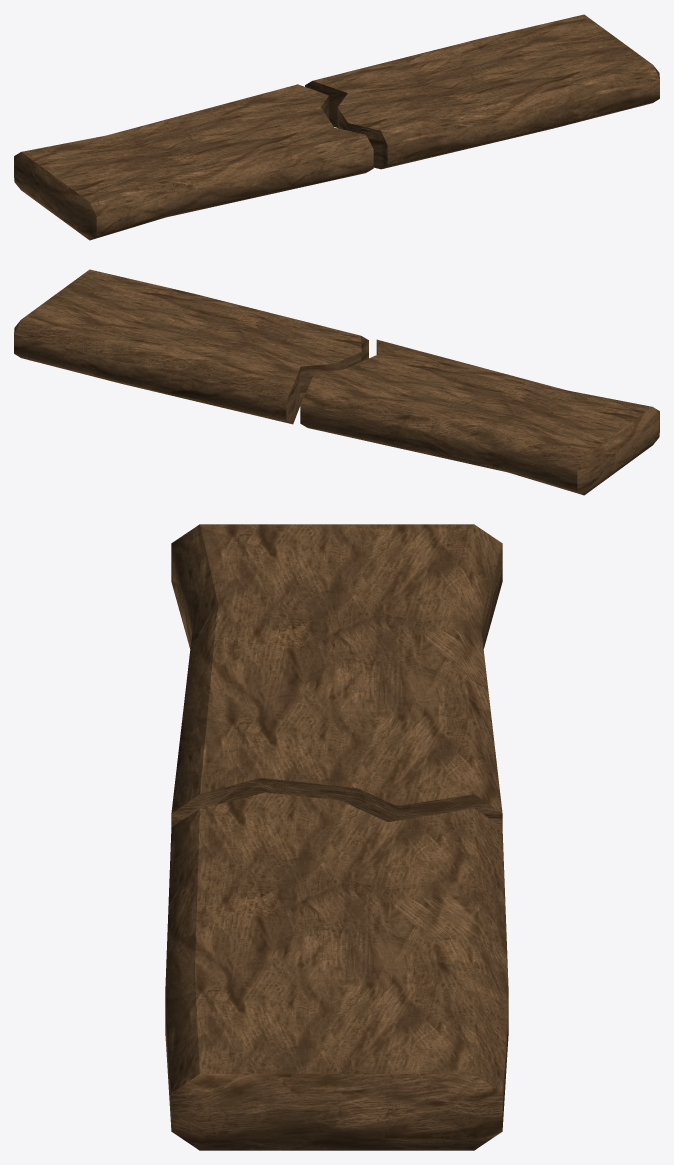
Rendered from WoodenPlank03.fbx.
The picture shows the model from 3 angles, top to bottom: view 1: azimuth 30°, elevation 25°; view 2: azimuth 150°, elevation 25°; view 3: azimuth 270°, elevation 25°; orthographic projection. The views are drawn at different scales.
Visible parts, largest first — view 1: WoodenPlank03; view 2: WoodenPlank03; view 3: WoodenPlank03.
Boxes of the visible parts, box(x1,y1,x2,y2) form: WoodenPlank03: box(14, 14, 659, 240); WoodenPlank03: box(14, 269, 659, 495); WoodenPlank03: box(165, 524, 508, 1150).
Size of the model in its own units: 2.09 by 0.1333 by 0.5394.
